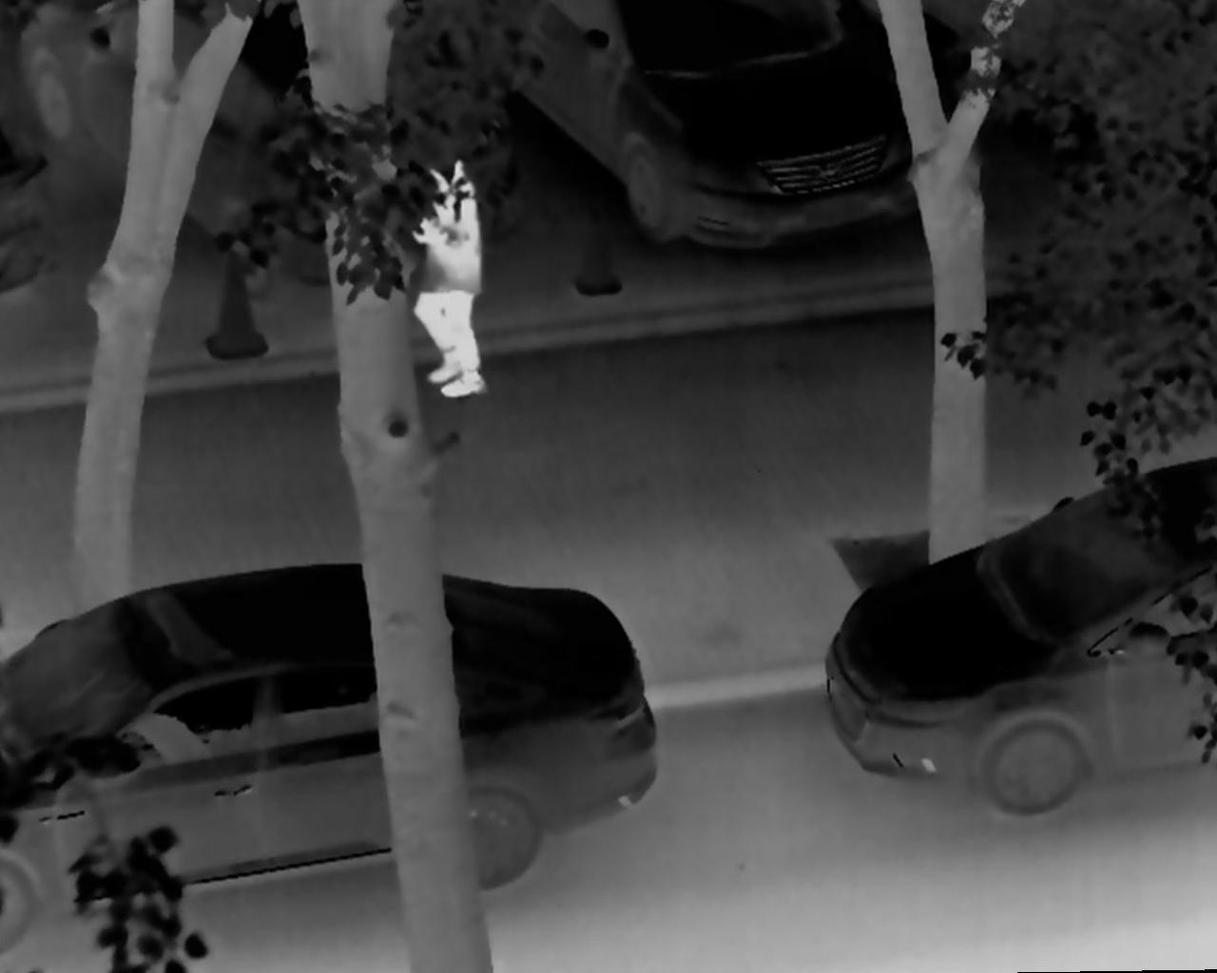person: (399, 136, 490, 404)
